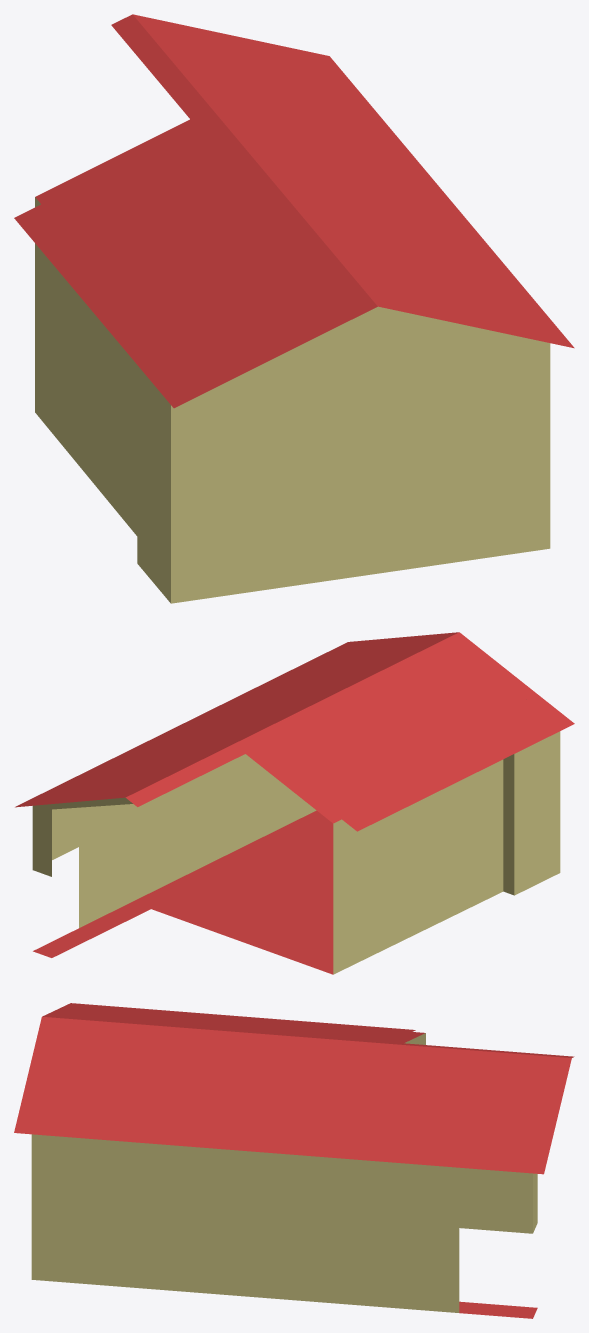
The picture shows the model from 3 angles, top to bottom: view 1: azimuth 30°, elevation 25°; view 2: azimuth 150°, elevation 25°; view 3: azimuth 270°, elevation 25°; orthographic projection. The views are drawn at different scales.
Bounding box in the file's own units: 14.72 × 20.38 × 8.17.
